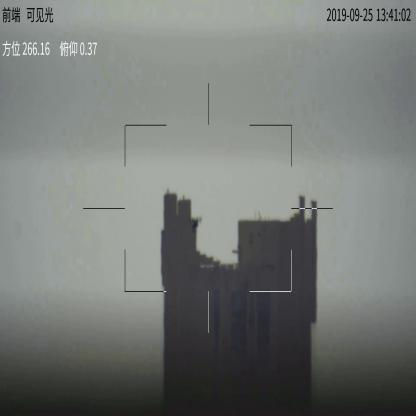uav: (188, 214, 203, 236)
